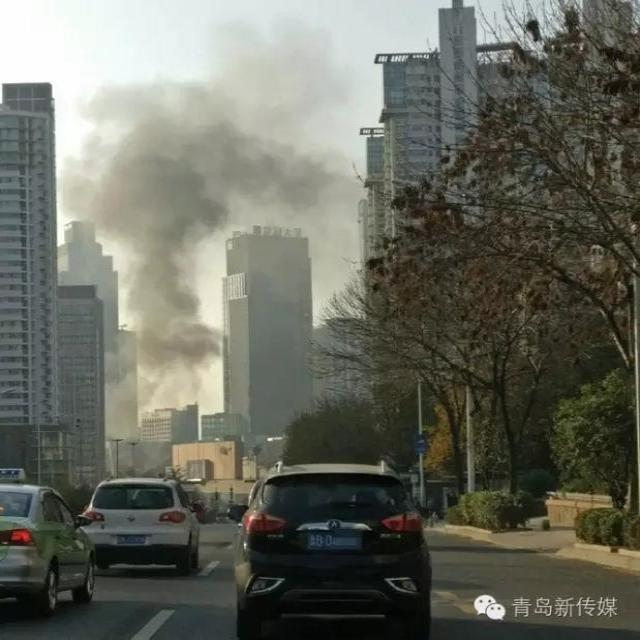Smoke: (57, 20, 364, 478)
